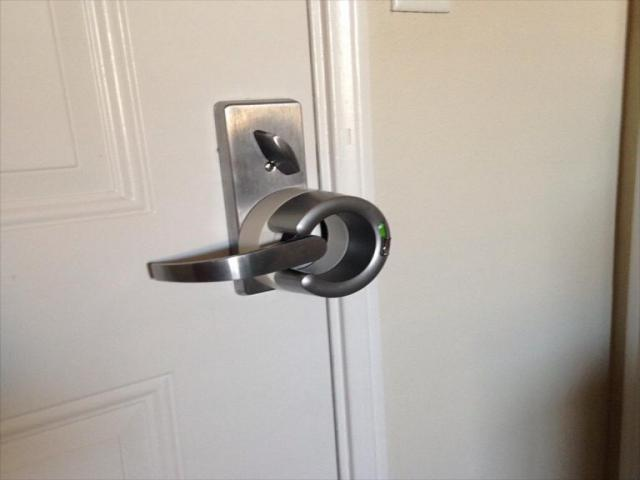Door-handle: (148, 100, 392, 300)
